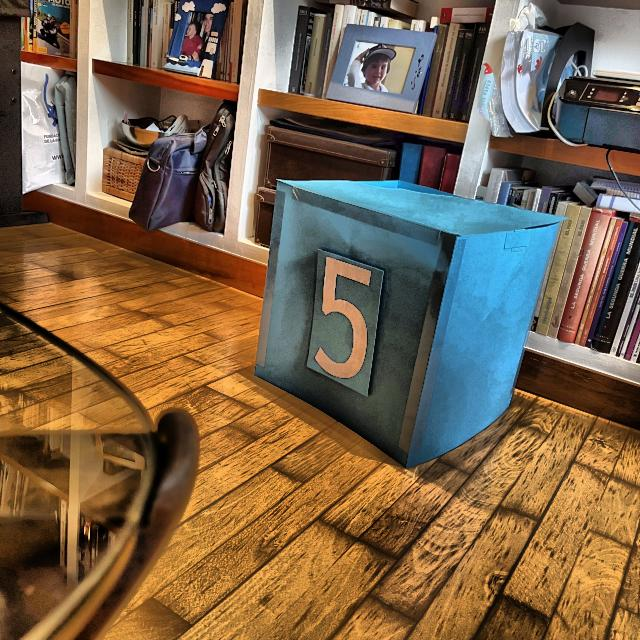blue box: (248, 170, 565, 470)
five: (310, 248, 378, 389)
